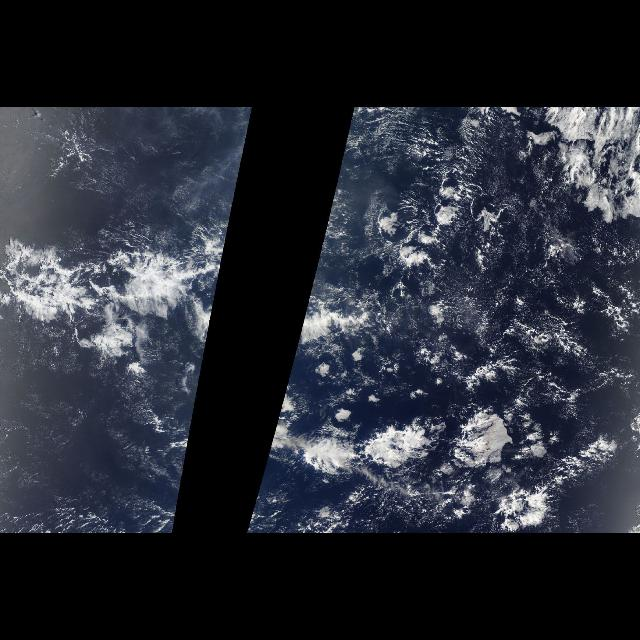Flower: (301, 392, 577, 530)
Gravel: (350, 150, 544, 366)
Sugar: (397, 164, 639, 380), (131, 115, 225, 217)
